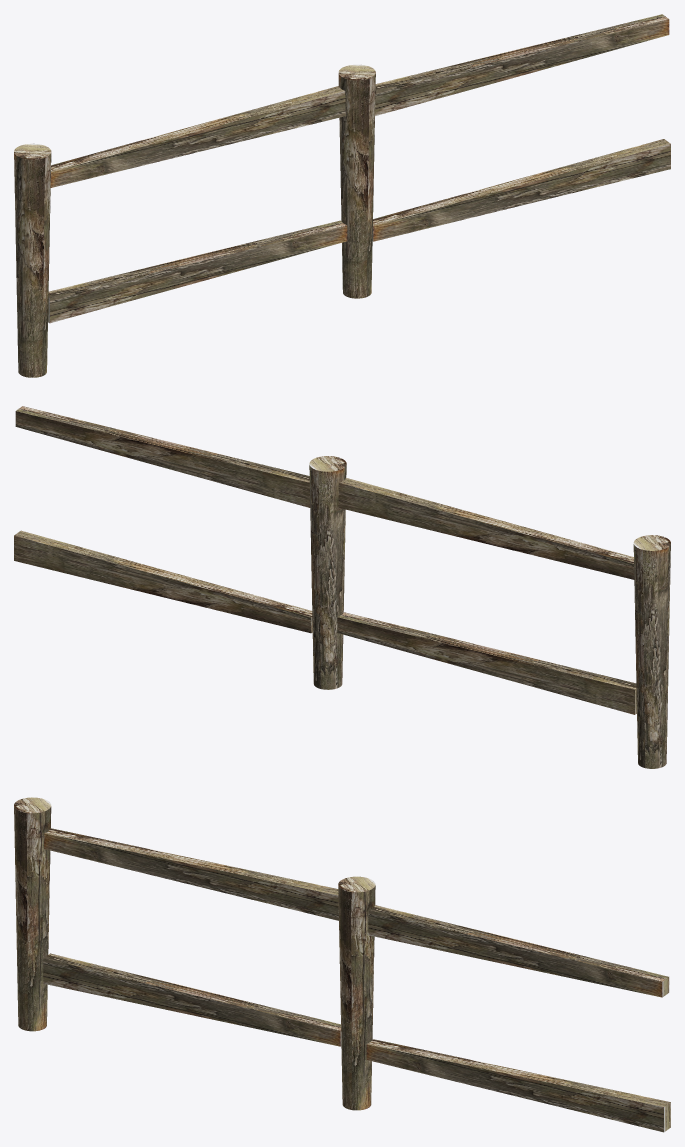
File: fence.gltf
The picture shows the model from 3 angles, top to bottom: view 1: azimuth 30°, elevation 25°; view 2: azimuth 150°, elevation 25°; view 3: azimuth 330°, elevation 25°; orthographic projection.
Parts seen in each view (by area): view 1: Cube.003, Cube.001, Cube, Cube.002, Cylinder.001, Cylinder; view 2: Cube.003, Cube.001, Cube, Cube.002, Cylinder.001, Cylinder; view 3: Cube.003, Cube.002, Cube.001, Cube, Cylinder.001, Cylinder.
Boxes of the visible parts, x1=… form: Cube.003: x1=372, y1=139, x2=670, y2=241; Cube.001: x1=48, y1=220, x2=347, y2=323; Cube: x1=50, y1=86, x2=345, y2=187; Cube.002: x1=375, y1=14, x2=669, y2=115; Cylinder.001: x1=14, y1=143, x2=51, y2=377; Cylinder: x1=338, y1=64, x2=375, y2=298; Cube.003: x1=14, y1=530, x2=312, y2=633; Cube.001: x1=337, y1=612, x2=636, y2=714; Cube: x1=338, y1=478, x2=634, y2=579; Cube.002: x1=15, y1=406, x2=310, y2=507; Cylinder.001: x1=633, y1=535, x2=670, y2=768; Cylinder: x1=309, y1=456, x2=346, y2=689; Cube.003: x1=366, y1=1039, x2=670, y2=1132; Cube.002: x1=368, y1=905, x2=669, y2=997; Cube.001: x1=43, y1=953, x2=341, y2=1046; Cube: x1=44, y1=828, x2=338, y2=920; Cylinder.001: x1=14, y1=797, x2=51, y2=1031; Cylinder: x1=338, y1=876, x2=375, y2=1110.
Size of the model in its own units: 6.59 by 2.13 by 0.3282.
1 material, 1 textured.
